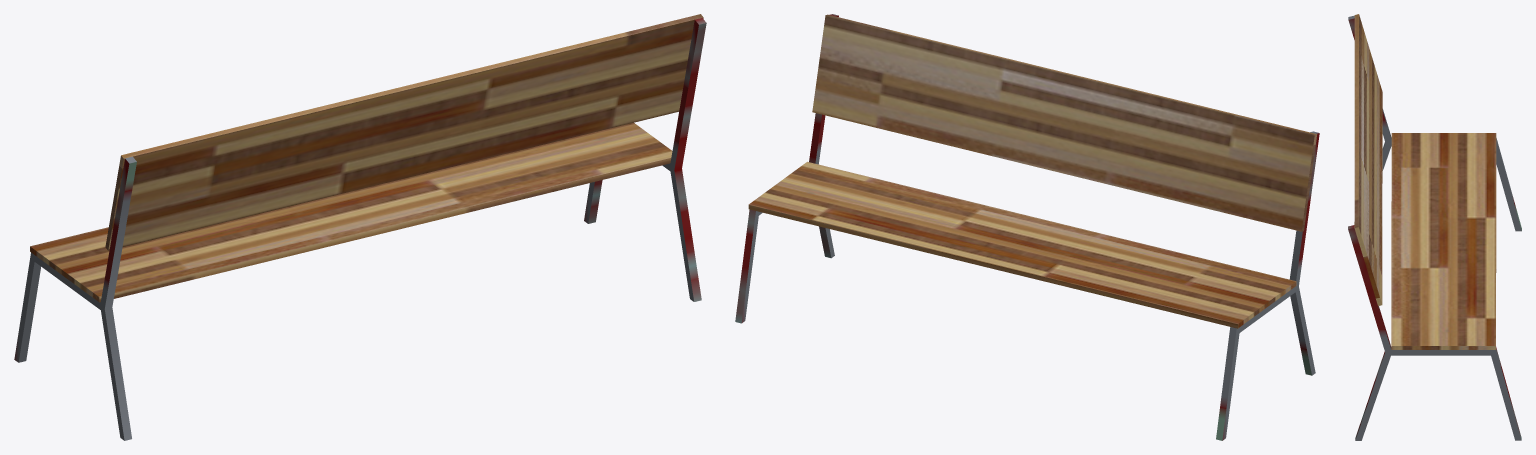
File: SM_StreetBench_v01.FBX
3 views of the same model, side by side, from view 1: azimuth 30°, elevation 25°; view 2: azimuth 150°, elevation 25°; view 3: azimuth 270°, elevation 25° (orthographic). The views are drawn at different scales.
Visible parts, largest first — view 1: StreetBench_v01; view 2: StreetBench_v01; view 3: StreetBench_v01.
Boxes of the visible parts, left/top/right/bottom form: StreetBench_v01: left=14, top=14, right=706, bottom=440; StreetBench_v01: left=735, top=14, right=1319, bottom=440; StreetBench_v01: left=1348, top=14, right=1521, bottom=440.
Bounding box in the file's own units: 3.63 × 1.7 × 1.25.
